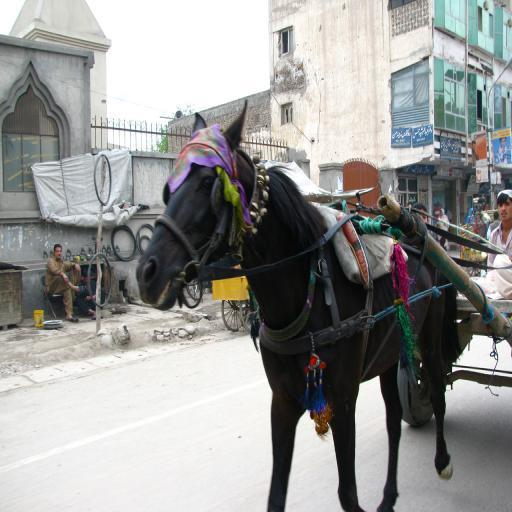horse: (134, 98, 462, 512)
